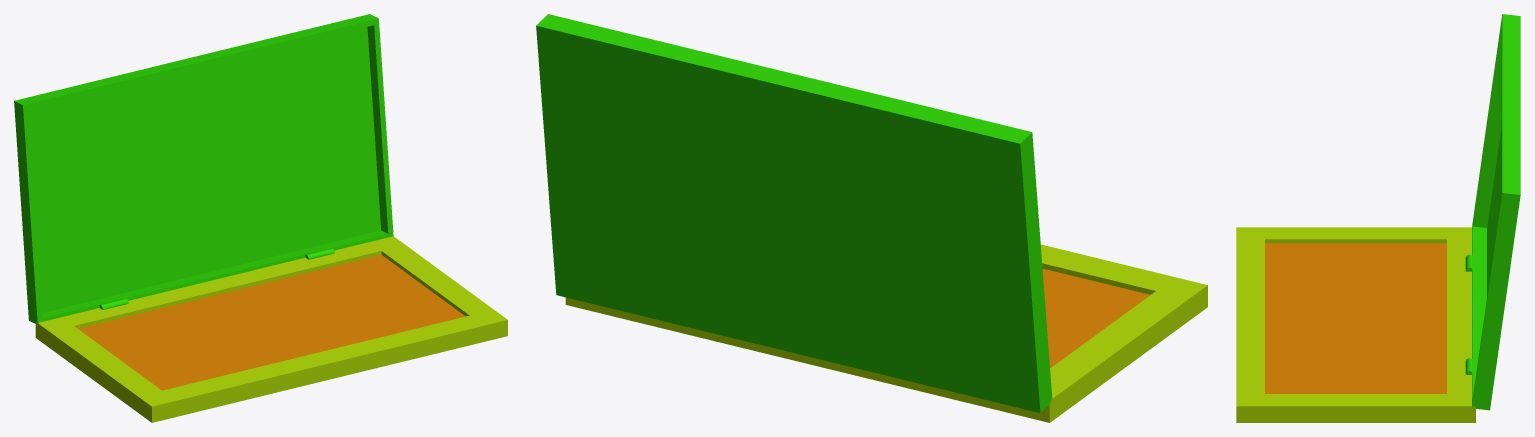
Rendered from Bottom.fbx.
3 renders of one model, left to right at view 1: azimuth 30°, elevation 25°; view 2: azimuth 150°, elevation 25°; view 3: azimuth 270°, elevation 25°, orthographic. The views are drawn at different scales.
Visible parts, largest first — view 1: Stamp(Bottom); view 2: Stamp(Bottom); view 3: Stamp(Bottom).
Part boxes in pixels (left/top/right/bottom): Stamp(Bottom): left=14, top=14, right=507, bottom=422; Stamp(Bottom): left=536, top=14, right=1207, bottom=422; Stamp(Bottom): left=1236, top=14, right=1520, bottom=422.
Bounding box in the file's own units: 35.18 × 21.08 × 23.62.
